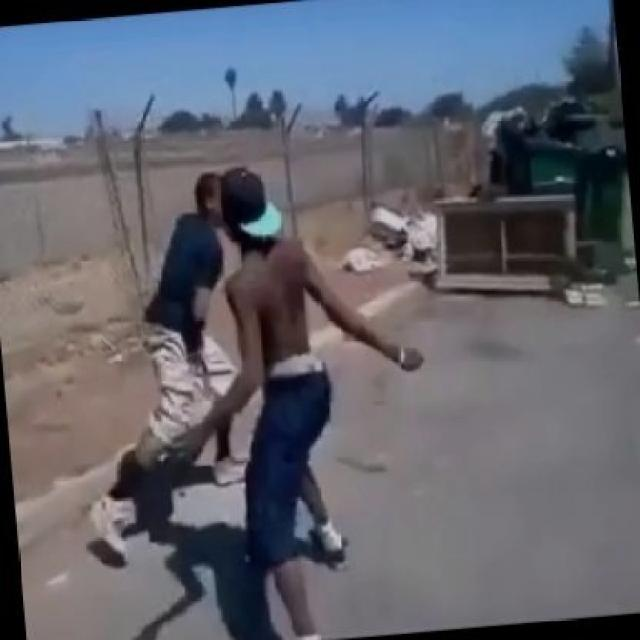fight: (76, 145, 436, 637)
